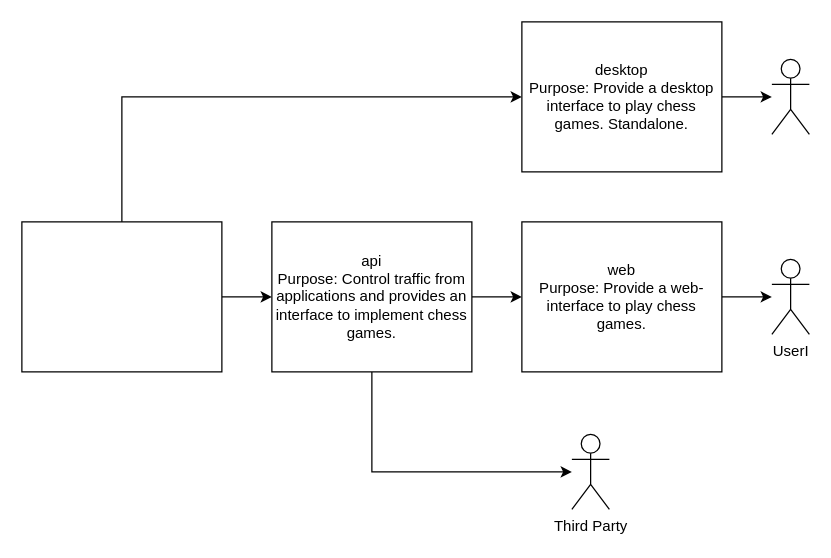
Image size: 831x558. Some labels were removed from this diagram. The shapes that lost their labels are listed below. From the top down, each one's box as (x1, y1, x2, y2) in pixels, then its label:
(771, 58, 809, 134): User
(21, 221, 222, 372): engine Purpose: Handle chess games efficiently.
